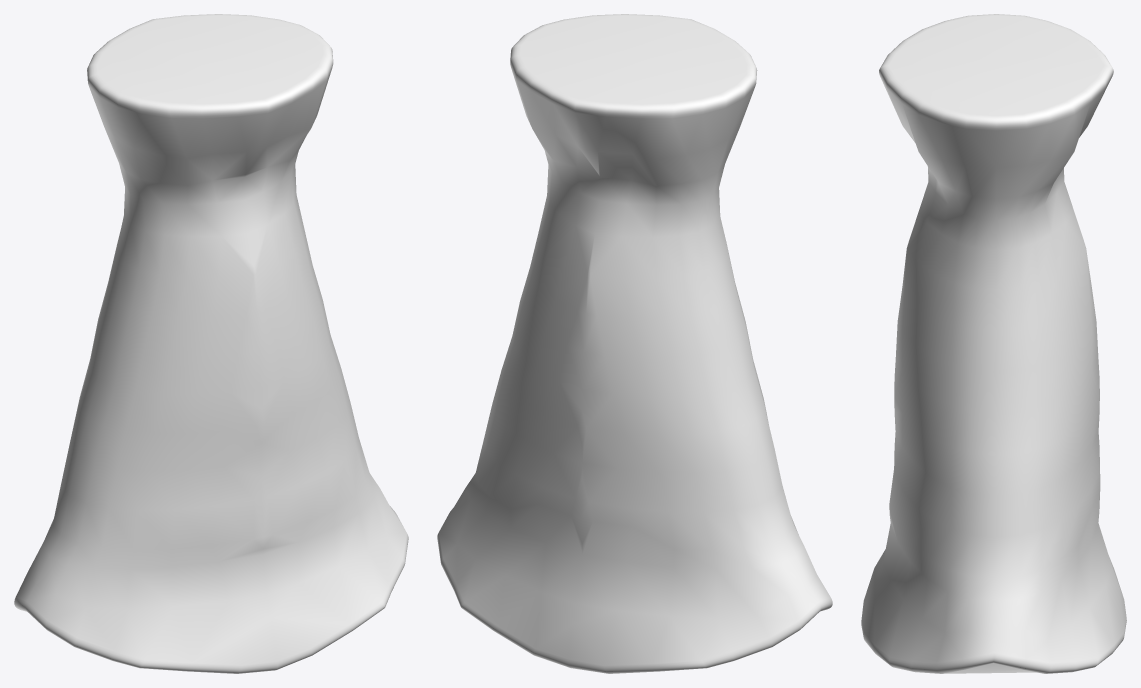
The model's file is Cuerpo_C.obj.
3 views of the same model, side by side, from view 1: azimuth 30°, elevation 25°; view 2: azimuth 150°, elevation 25°; view 3: azimuth 270°, elevation 25° (orthographic).
Visible parts, largest first — view 1: cuerpo; view 2: cuerpo; view 3: cuerpo.
Boxes of the visible parts, x1=… form: cuerpo: x1=14, y1=14, x2=408, y2=673; cuerpo: x1=437, y1=14, x2=832, y2=673; cuerpo: x1=861, y1=14, x2=1126, y2=673.
Bounding box in the file's own units: 5.89 × 8.53 × 3.63.
